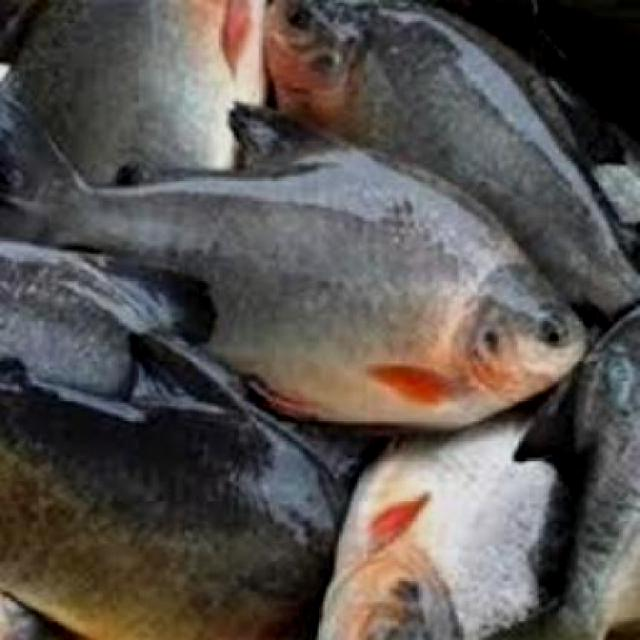ikan-pacu: (66, 131, 589, 420), (258, 0, 640, 163), (327, 414, 575, 638)
